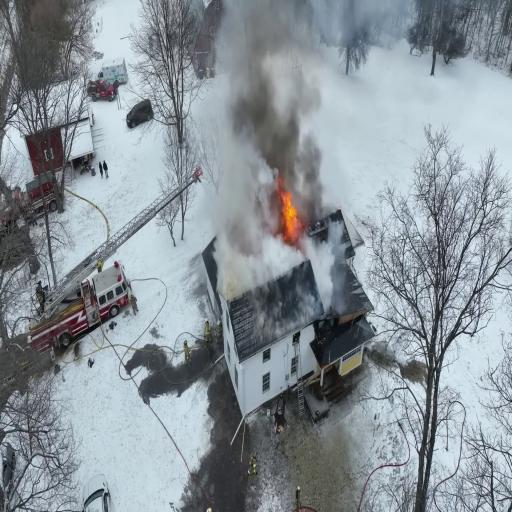fire: (277, 185, 304, 244)
smoke: (234, 25, 294, 158)
